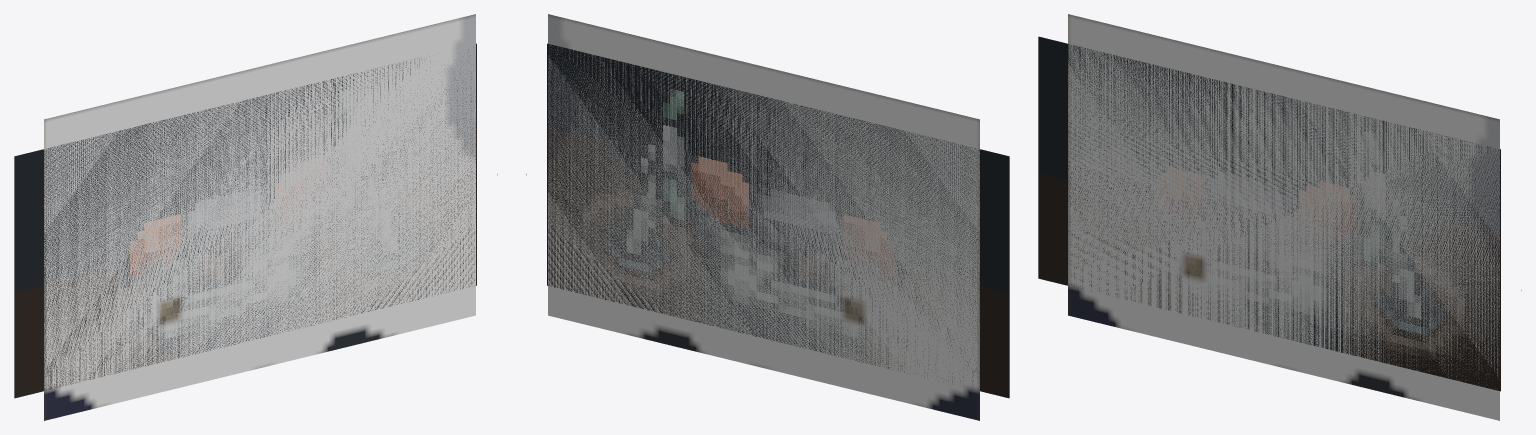
Rendered from Escape_Bike_01.glb.
3 renders of one model, left to right at view 1: azimuth 30°, elevation 25°; view 2: azimuth 150°, elevation 25°; view 3: azimuth 330°, elevation 25°, orthographic.
Parts seen in each view (by area): view 1: pPlane1, Bike; view 2: pPlane1, Bike; view 3: pPlane1, Bike.
Part boxes in pixels (bbox=[...]): pPlane1: bbox=[44, 14, 475, 420]; Bike: bbox=[14, 43, 476, 398]; pPlane1: bbox=[548, 14, 979, 420]; Bike: bbox=[547, 43, 1009, 398]; pPlane1: bbox=[1068, 14, 1499, 420]; Bike: bbox=[1038, 36, 1500, 391].
Size of the model in its own units: 2.29 by 1.36 by 6.7e-17.
Materials: 2 (2 with a texture image).
